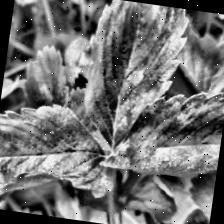Powdery Mildew Leaf: (75, 0, 194, 159), (0, 96, 123, 217), (100, 76, 224, 183)
